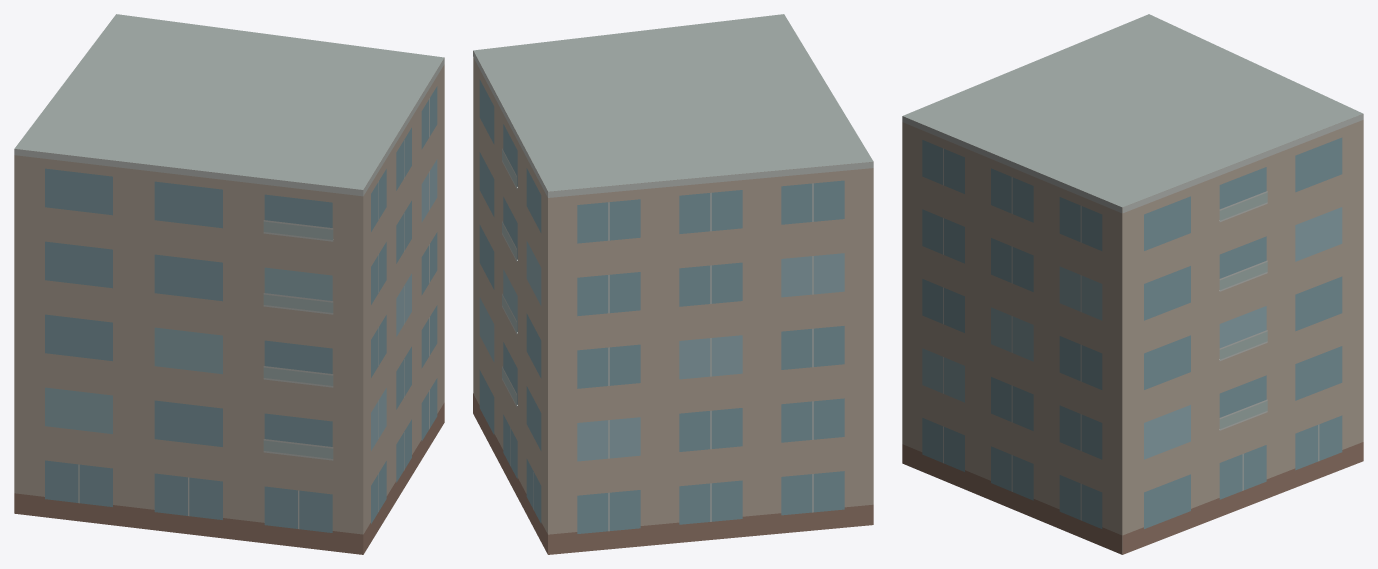
File: survey-upis-32854570.glb
The picture shows the model from 3 angles, left to right: view 1: azimuth 30°, elevation 25°; view 2: azimuth 150°, elevation 25°; view 3: azimuth 270°, elevation 25°; orthographic projection. The views are drawn at different scales.
Visible parts, largest first — view 1: survey-upis-32854570.tmp; view 2: survey-upis-32854570.tmp; view 3: survey-upis-32854570.tmp.
Part boxes in pixels (x1,y1,x2,y2): survey-upis-32854570.tmp: [14, 14, 444, 554]; survey-upis-32854570.tmp: [473, 14, 873, 554]; survey-upis-32854570.tmp: [902, 14, 1363, 554].
Bounding box in the file's own units: 16.72 × 14 × 16.85.
